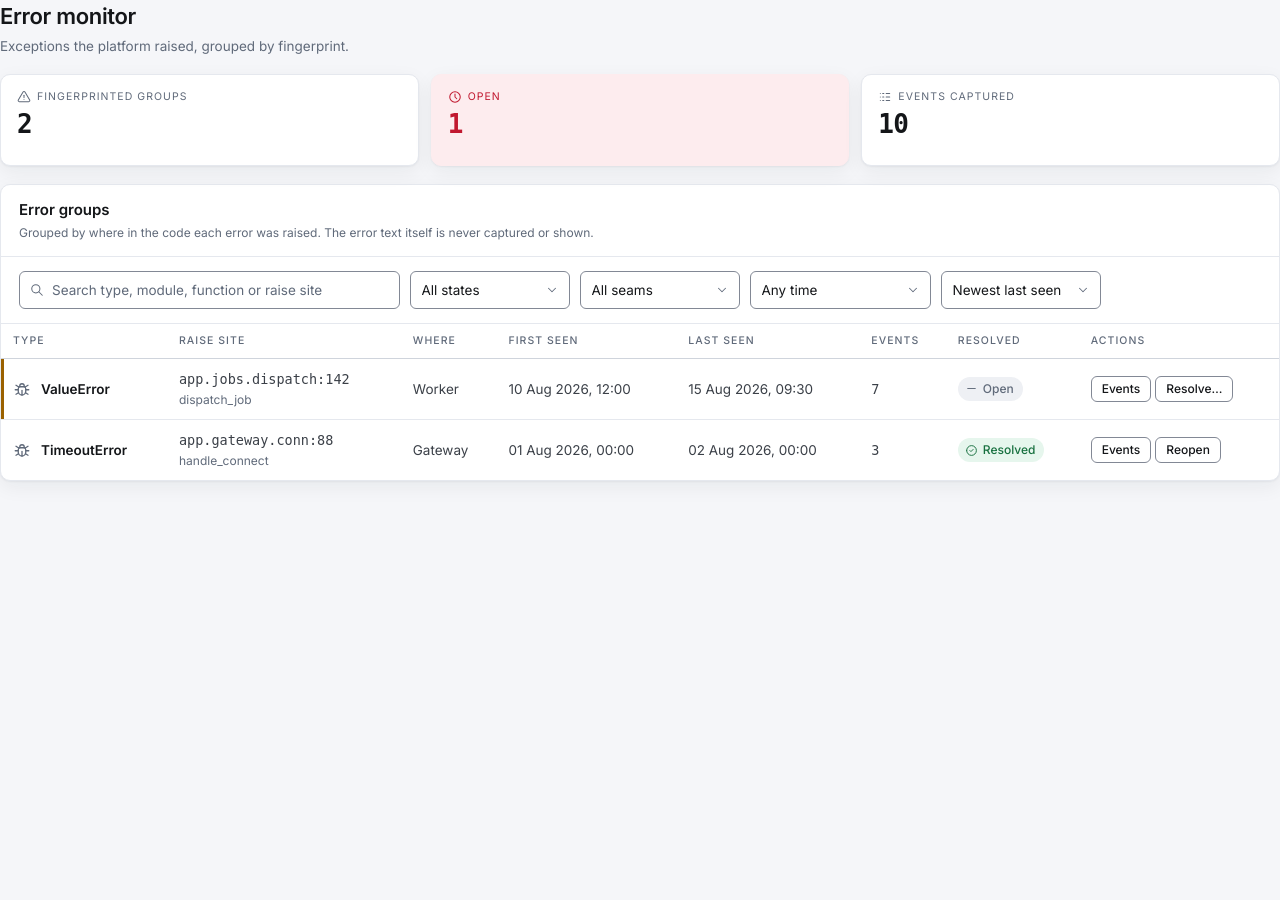
ErrorMonitorPage › surfaces a visible error when resolve fails, e.g. a 403 from an operator without write access
Click the button "Resolve…" at (1194, 389), box [1155,376,1233,402]
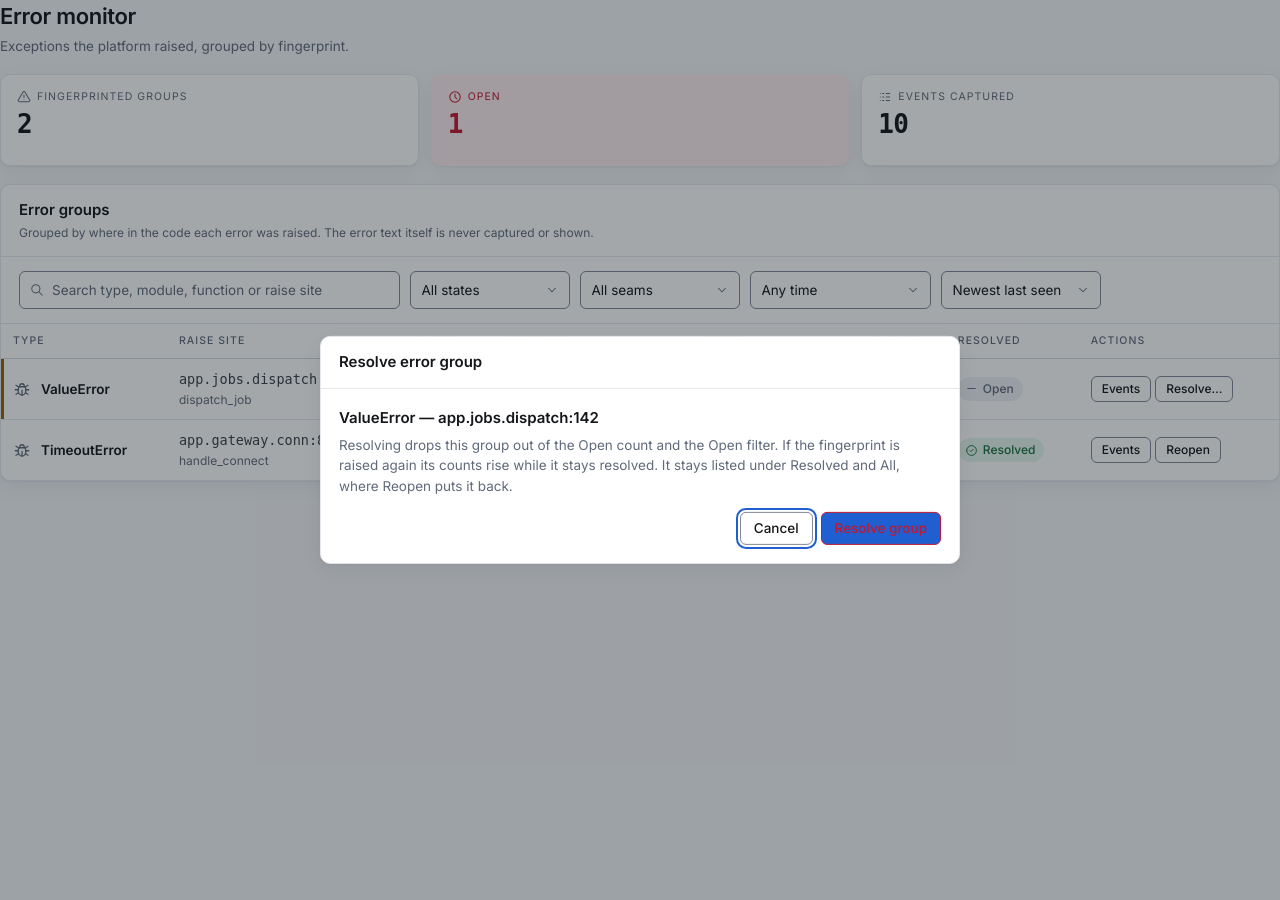
Click the button "Resolve group" at (881, 528), box [821,512,941,545]
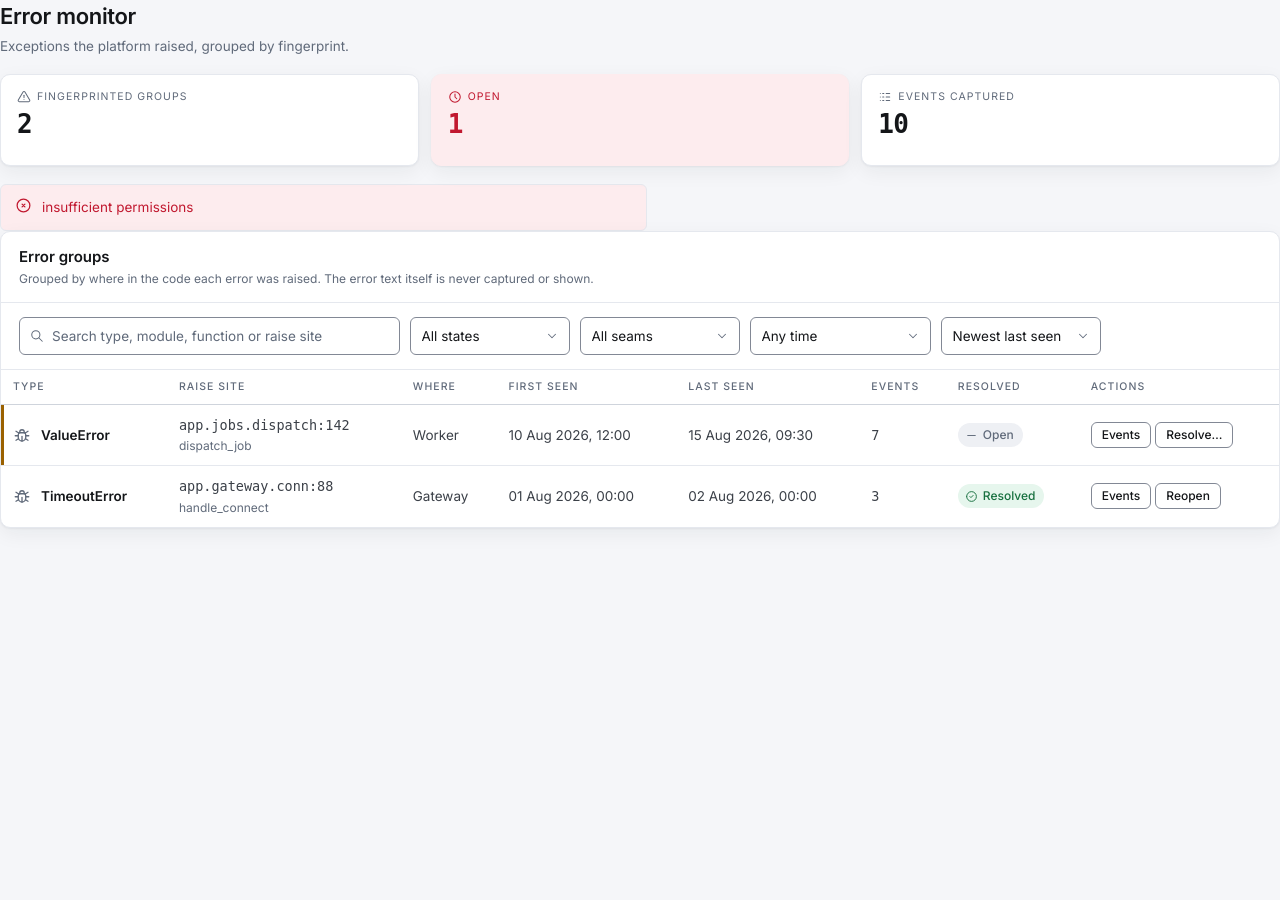
Now the text "insufficient permissions" is shown, box [42,197,193,218]
